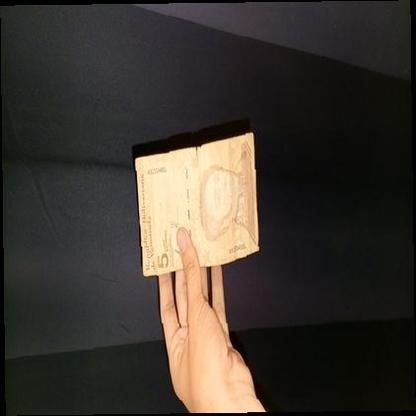five-front-vef: (134, 132, 260, 276)
